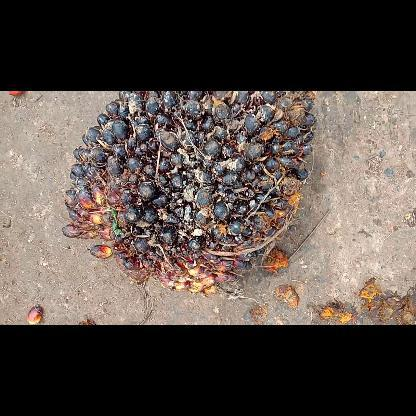TBS mentah: (60, 90, 318, 300)
